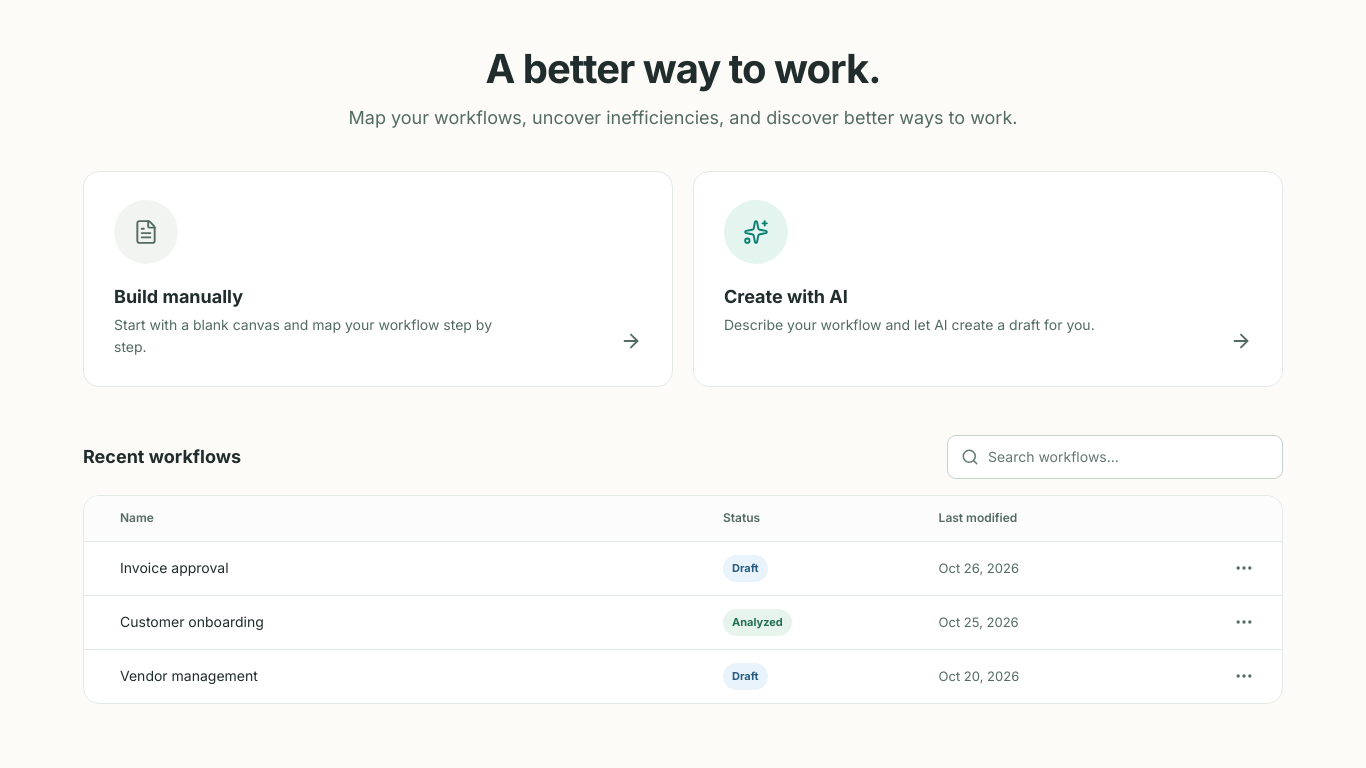
it: dashboard › renames from the row menu and re-sorts (D05)
The width and height of the screenshot is (1366, 768).
(page scrolled)
Click the button named "Actions for Vendor management" at (1244, 676), box [1222,654,1266,698]
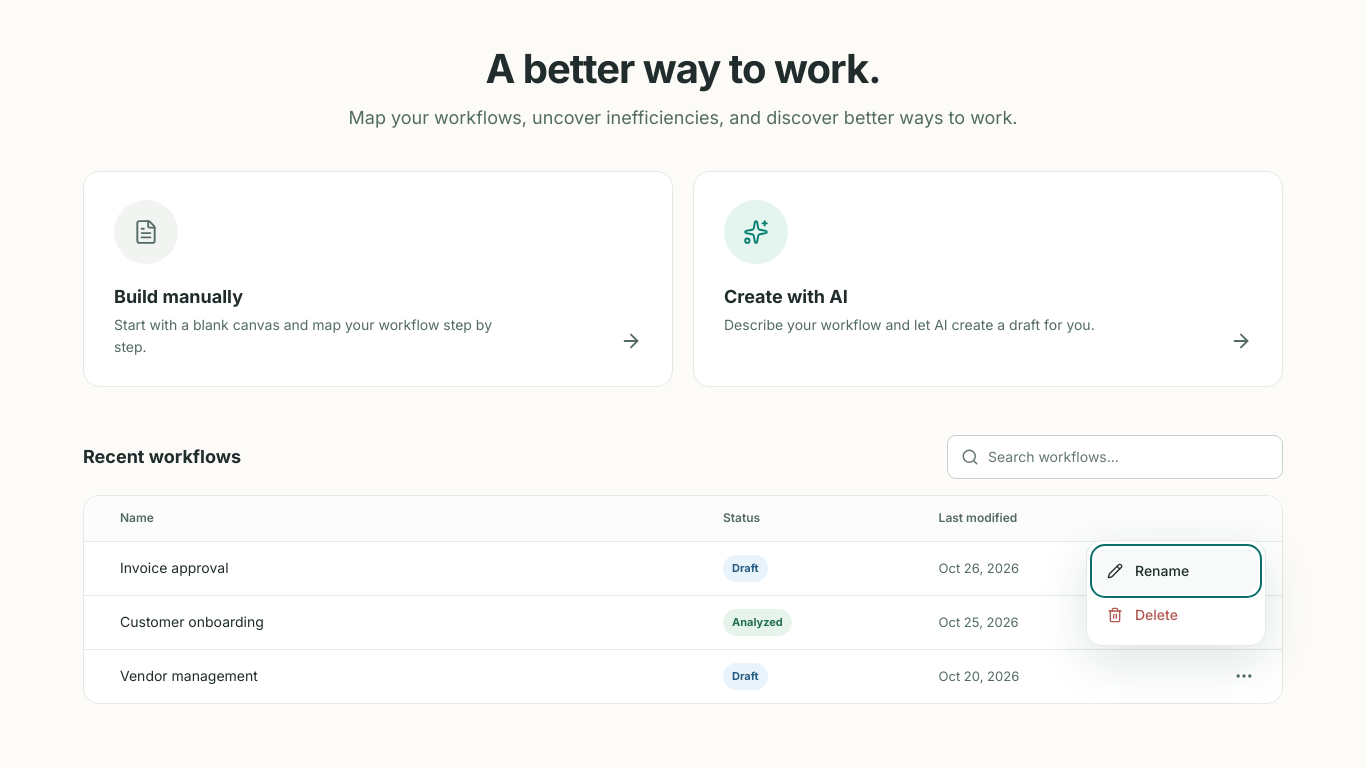
Click the menu item "Rename" at (1176, 571), box [1095,549,1257,593]
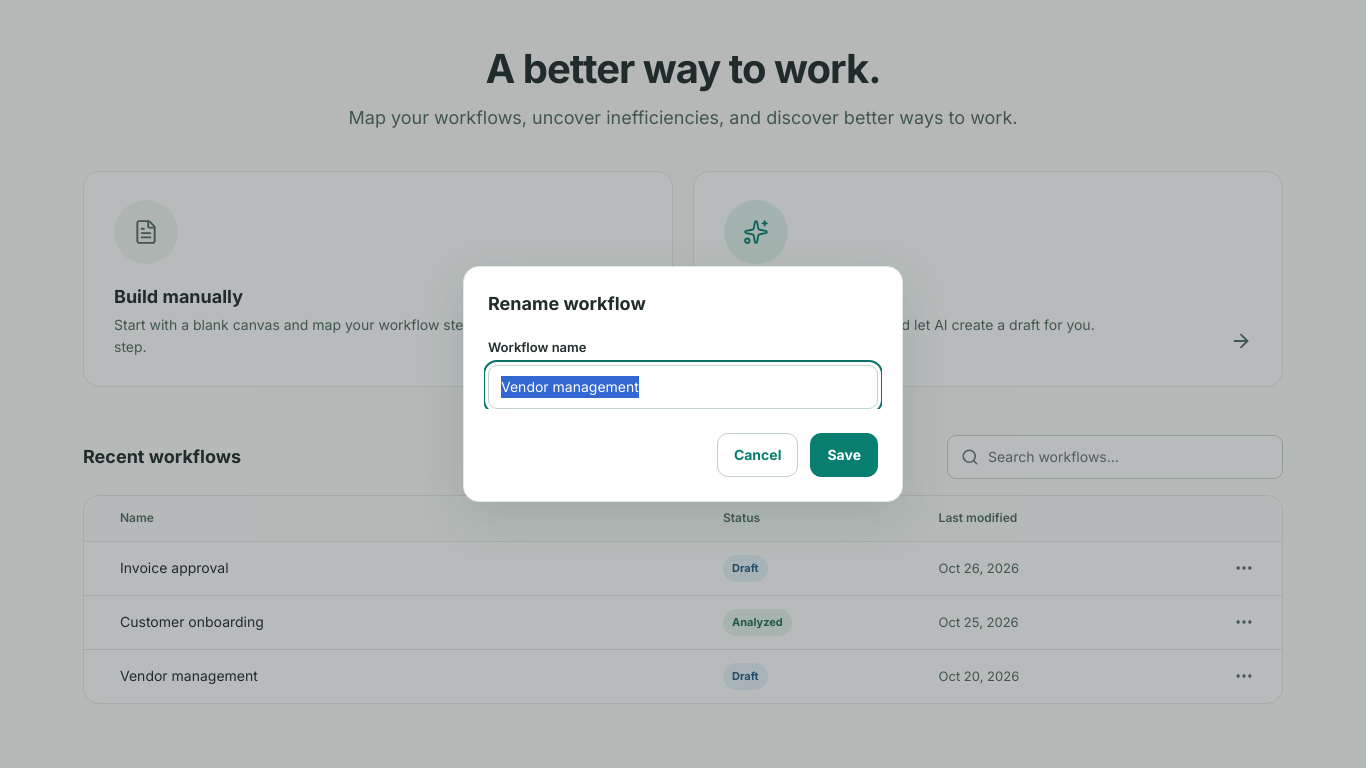
Replace the text in the field labelled "Workflow name" with "Supplier onboarding" at (683, 387), box [488,365,878,409]
Then press Enter
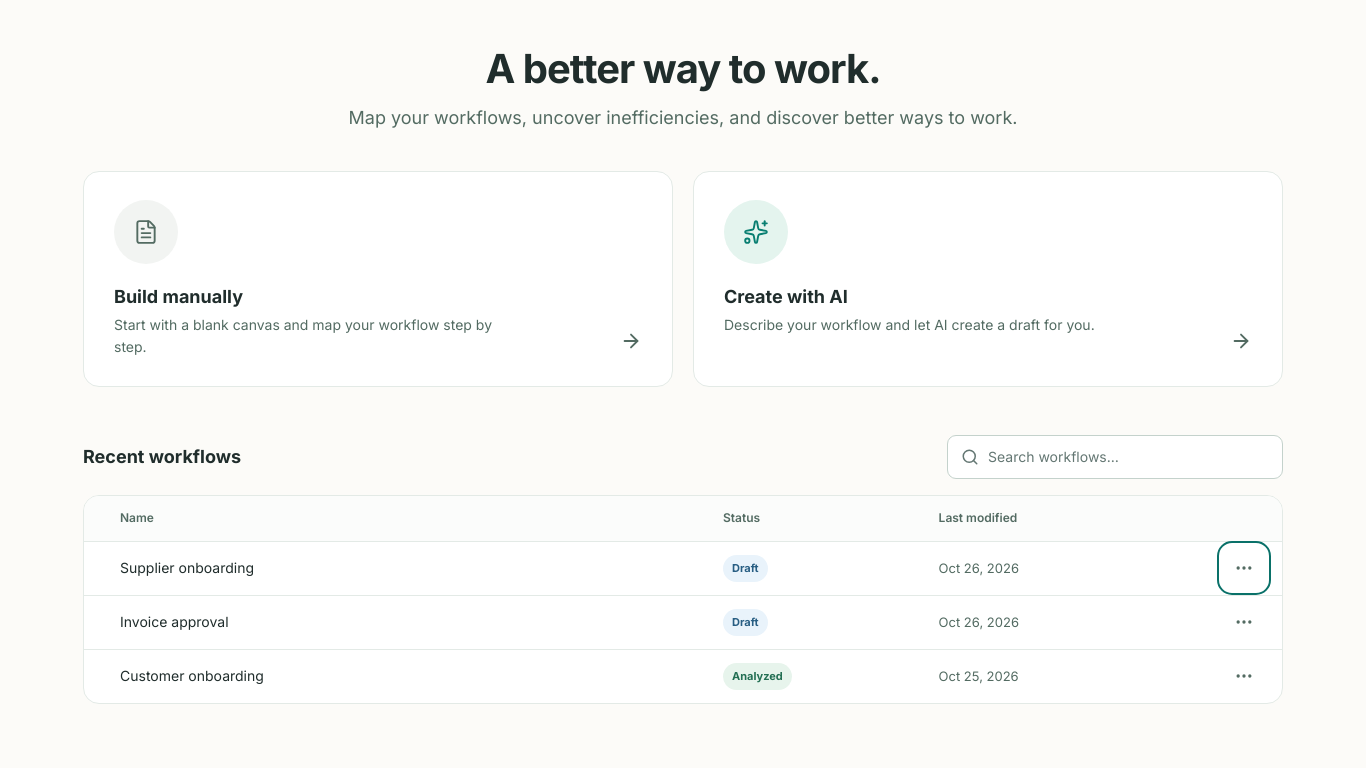
expect the dialog is gone: met
expect the link "Supplier onboarding" is shown: met, box [120,559,254,576]
